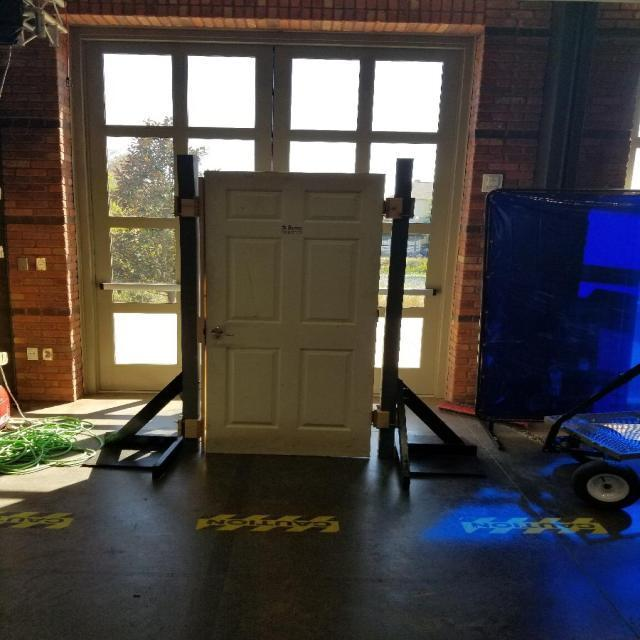door: (198, 168, 387, 458), (197, 327, 237, 340)
